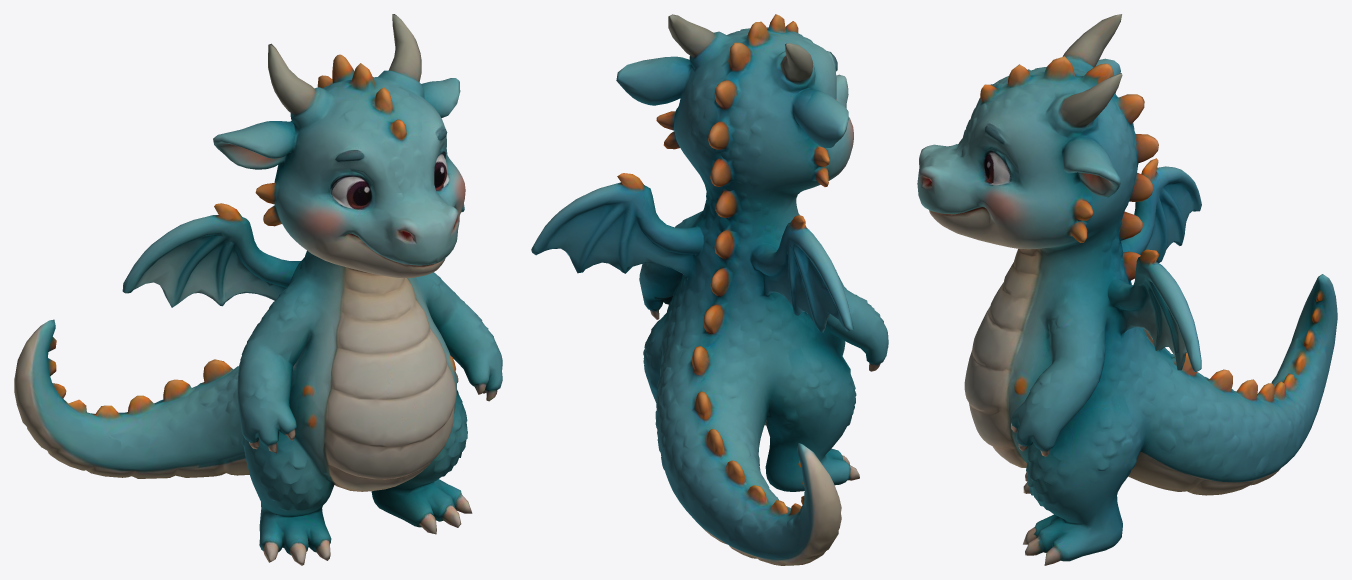
The model's file is dragon.glb.
3 views of the same model, side by side, from view 1: azimuth 30°, elevation 25°; view 2: azimuth 150°, elevation 25°; view 3: azimuth 270°, elevation 25° (orthographic). The views are drawn at different scales.
Visible parts, largest first — view 1: tripo_node_532348c5-2f61-468a-8254-b316e1fb16c2; view 2: tripo_node_532348c5-2f61-468a-8254-b316e1fb16c2; view 3: tripo_node_532348c5-2f61-468a-8254-b316e1fb16c2.
Part boxes in pixels (bbox=[...]): tripo_node_532348c5-2f61-468a-8254-b316e1fb16c2: bbox=[14, 14, 502, 565]; tripo_node_532348c5-2f61-468a-8254-b316e1fb16c2: bbox=[531, 14, 888, 565]; tripo_node_532348c5-2f61-468a-8254-b316e1fb16c2: bbox=[917, 14, 1337, 565].
Size of the model in its own units: 0.8199 by 0.9787 by 0.7845.
Materials: 1 (1 with a texture image).
